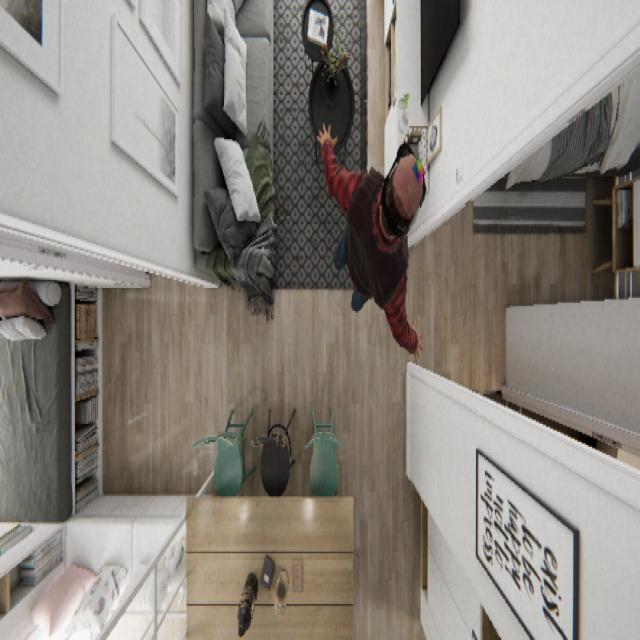Colored-Marker: (411, 154, 425, 185)
Human: (315, 119, 427, 362)
